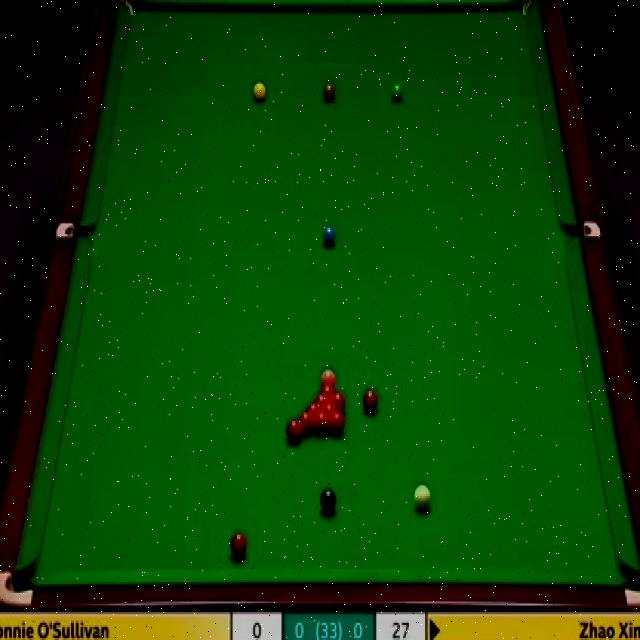black-ball: (319, 488, 337, 516)
blue-ball: (323, 227, 336, 246)
brown-ball: (323, 82, 336, 103)
green-ball: (389, 81, 404, 103)
pink-ball: (319, 366, 336, 384)
red-ball: (230, 532, 248, 560), (362, 387, 379, 414), (328, 410, 345, 436), (286, 419, 303, 443), (314, 411, 328, 434), (300, 411, 314, 433), (330, 392, 346, 410), (318, 382, 336, 393), (322, 402, 337, 413), (306, 402, 322, 412), (314, 393, 329, 403)
white-ball: (413, 484, 432, 511)
yellow-ball: (254, 83, 268, 104)
